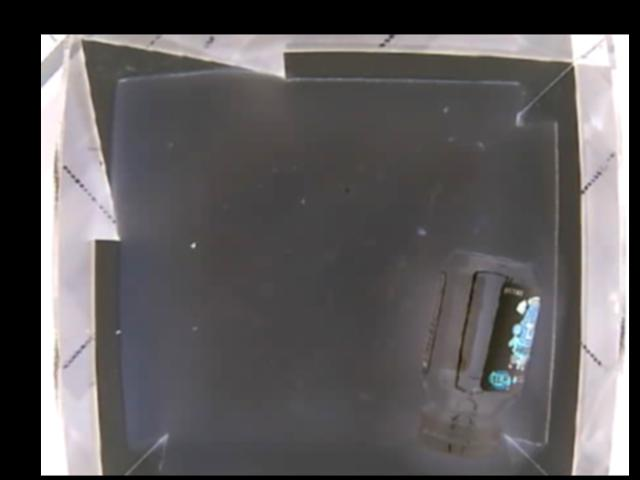Bottle: (414, 245, 542, 459)
